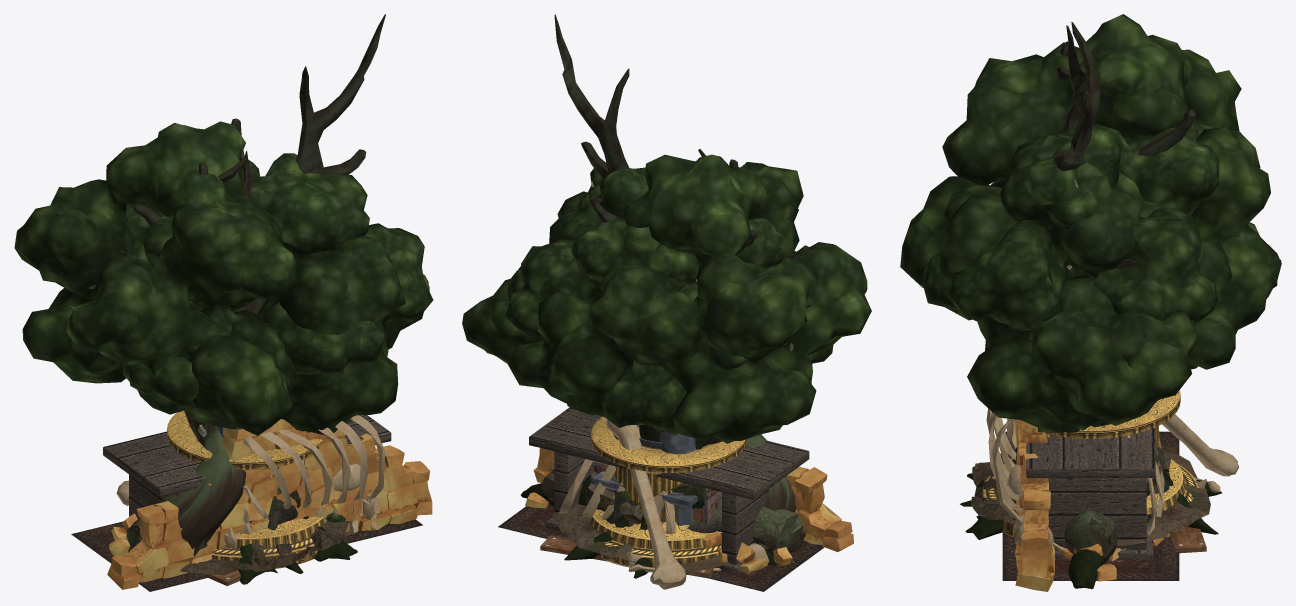
Rendered from props.glb.
The picture shows the model from 3 angles, left to right: view 1: azimuth 30°, elevation 25°; view 2: azimuth 150°, elevation 25°; view 3: azimuth 270°, elevation 25°; orthographic projection. The views are drawn at different scales.
Visible parts, largest first — view 1: forestTree_crown, forestTree2_crown, ruinWall_wall, swampTree_body, forestTree_trunk, mapDevice_body, table_top, ribcage_0, coastRock_body, rug_face, ribcage_1, table (+2 smaller); view 2: forestTree_crown, forestTree2_crown, mapDevice_body, table_top, swampTree_body, table, ruinWall_wall, rug_face, ribcage_5, coastRock_body, mossLog_0, vaalColumn_body (+6 smaller); view 3: forestTree_crown, forestTree2_crown, swampTree_body, table, table_top, ruinWall_wall, coastRock_body, mapDevice_body, rug_face, ribcage_0, mossLog_0, ribcage_5 (+3 smaller).
Part boxes in pixels (x1,y1,x2,y2): forestTree_crown: (14, 121, 429, 435); forestTree2_crown: (122, 153, 433, 414); ruinWall_wall: (107, 419, 432, 589); swampTree_body: (89, 14, 385, 584); forestTree_trunk: (69, 301, 246, 556); mapDevice_body: (167, 410, 325, 568); table_top: (103, 415, 391, 497); ribcage_0: (243, 421, 368, 534); coastRock_body: (180, 489, 349, 574); rug_face: (71, 519, 422, 591); ribcage_1: (350, 415, 385, 530); table: (121, 474, 182, 531); forestTree_crown: (462, 154, 871, 443); forestTree2_crown: (505, 167, 833, 435); mapDevice_body: (590, 416, 746, 567); table_top: (529, 407, 809, 499); swampTree_body: (521, 14, 811, 578); table: (546, 451, 769, 574); ruinWall_wall: (533, 440, 853, 552); rug_face: (498, 505, 824, 591); ribcage_5: (606, 419, 686, 589); coastRock_body: (553, 472, 730, 574); mossLog_0: (541, 464, 805, 555); vaalColumn_body: (592, 425, 697, 525); forestTree_crown: (900, 14, 1281, 432); forestTree2_crown: (922, 118, 1219, 330); swampTree_body: (960, 22, 1221, 589); table: (1048, 478, 1153, 560); table_top: (1026, 427, 1155, 477); ruinWall_wall: (1015, 419, 1055, 591); coastRock_body: (971, 448, 1210, 545); mapDevice_body: (982, 390, 1198, 539); rug_face: (1002, 431, 1179, 580); ribcage_0: (986, 408, 1164, 543); mossLog_0: (1064, 510, 1117, 557); ribcage_5: (1162, 414, 1238, 476).
Bounding box in the file's own units: 3.6 × 4.75 × 2.81.
64 materials, 43 textured.
